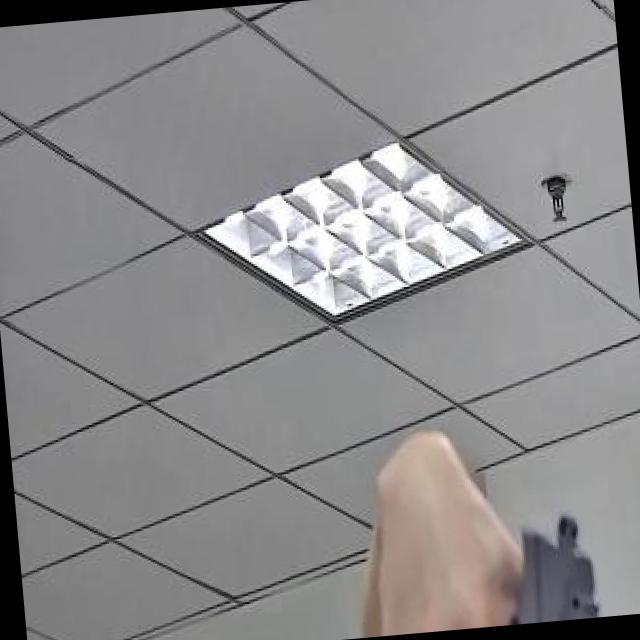Guns: (434, 457, 640, 630)
